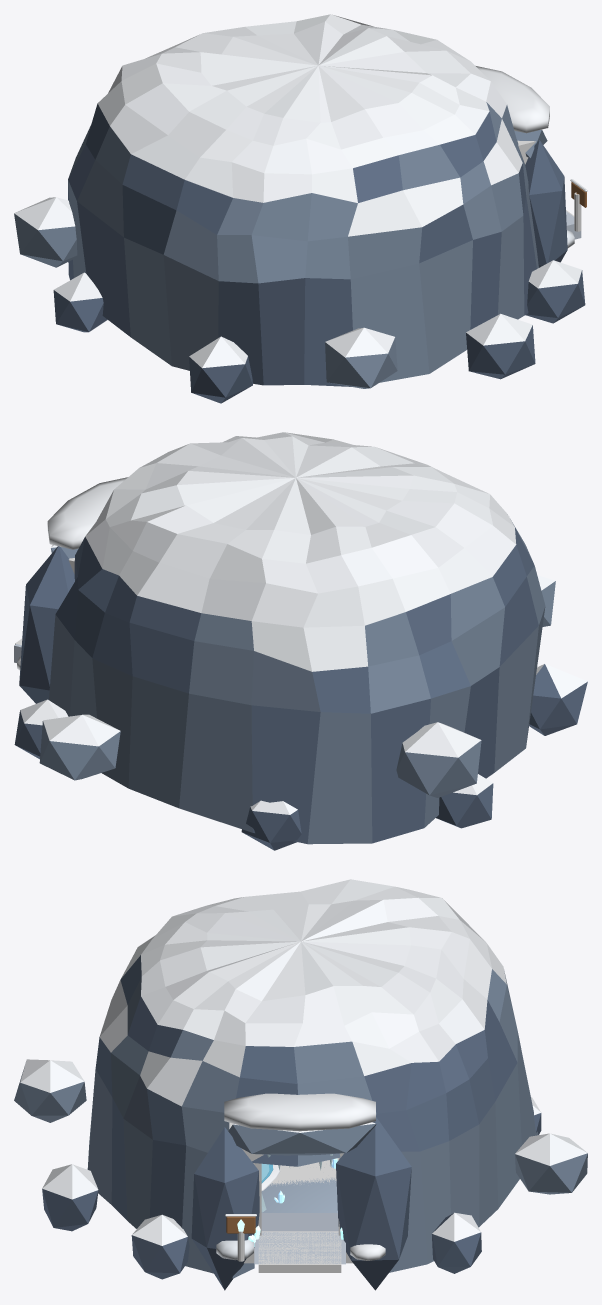
The model's file is pico-caverna.glb.
3 renders of one model, top to bottom at view 1: azimuth 30°, elevation 25°; view 2: azimuth 150°, elevation 25°; view 3: azimuth 270°, elevation 25°, orthographic. The views are drawn at different scales.
Parts seen in each view (by area): view 1: rocha; view 2: rocha; view 3: rocha, chao, col-rampa-2, col-cil-chao-1.
Part boxes in pixels (box(x1,y1,x2,y2)): rocha: box(14, 14, 587, 403); rocha: box(14, 432, 587, 850); rocha: box(14, 879, 587, 1290); chao: box(216, 1163, 385, 1264); col-rampa-2: box(258, 1231, 341, 1272); col-cil-chao-1: box(269, 1158, 338, 1186).
Size of the model in its own units: 18.98 by 9.73 by 19.44.
